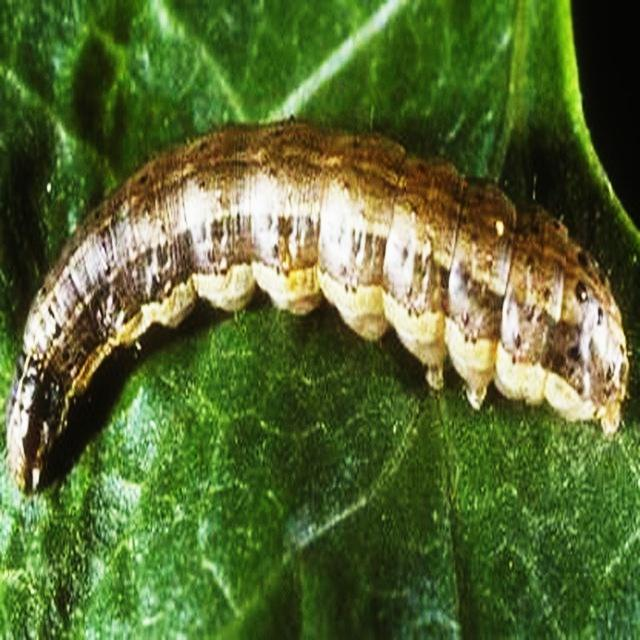Plaga: (11, 119, 628, 506)
